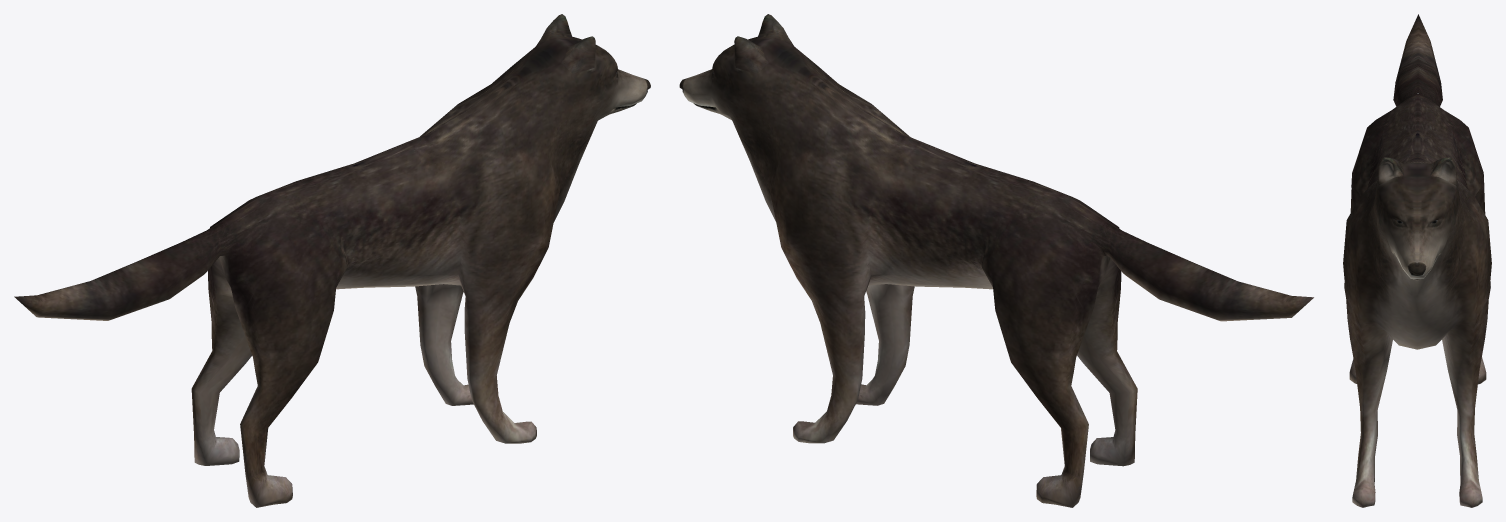
The model's file is wolf_standing.obj.
3 views of the same model, side by side, from view 1: azimuth 30°, elevation 25°; view 2: azimuth 150°, elevation 25°; view 3: azimuth 270°, elevation 25° (orthographic). The views are drawn at different scales.
Parts seen in each view (by area): view 1: Wolf1_Material__wolf_col_tga_0; view 2: Wolf1_Material__wolf_col_tga_0; view 3: Wolf1_Material__wolf_col_tga_0.
Boxes of the visible parts, x1,y1,x2,y2 form: Wolf1_Material__wolf_col_tga_0: (14, 14, 650, 507); Wolf1_Material__wolf_col_tga_0: (679, 14, 1313, 507); Wolf1_Material__wolf_col_tga_0: (1343, 14, 1491, 507).
Size of the model in its own units: 1.02 by 0.5761 by 0.2029.
Materials: 2 (2 with a texture image).
